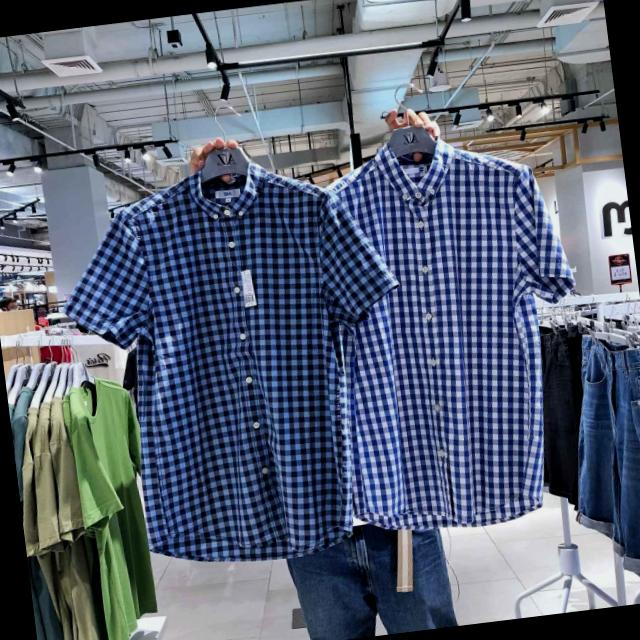shirt: (74, 152, 399, 566), (316, 130, 598, 536)
